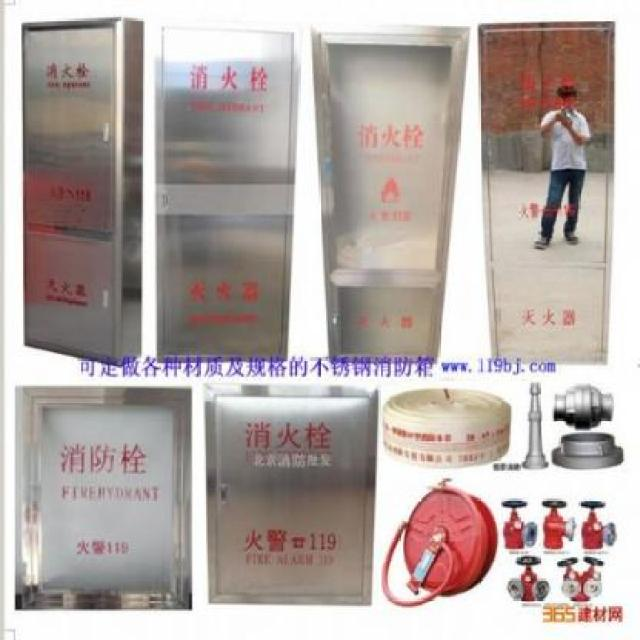firehydrant: (306, 17, 472, 369), (148, 14, 305, 371), (472, 15, 620, 368), (19, 12, 150, 371), (11, 380, 197, 618), (202, 378, 384, 611)
